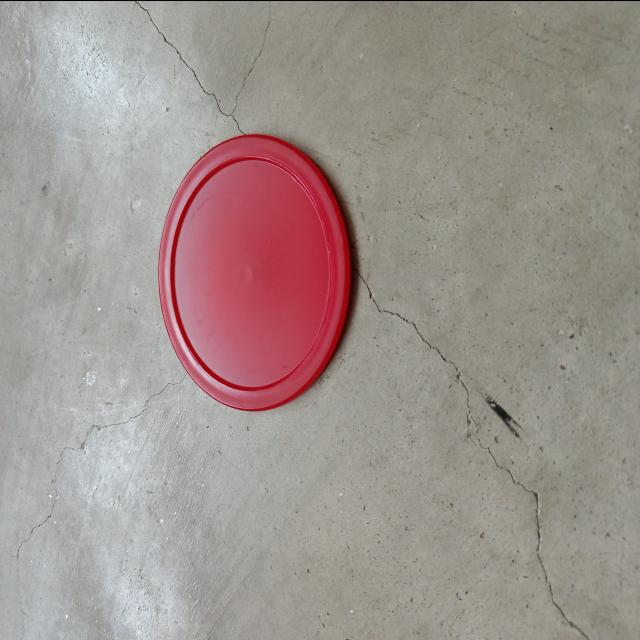chip: (158, 129, 348, 411)
